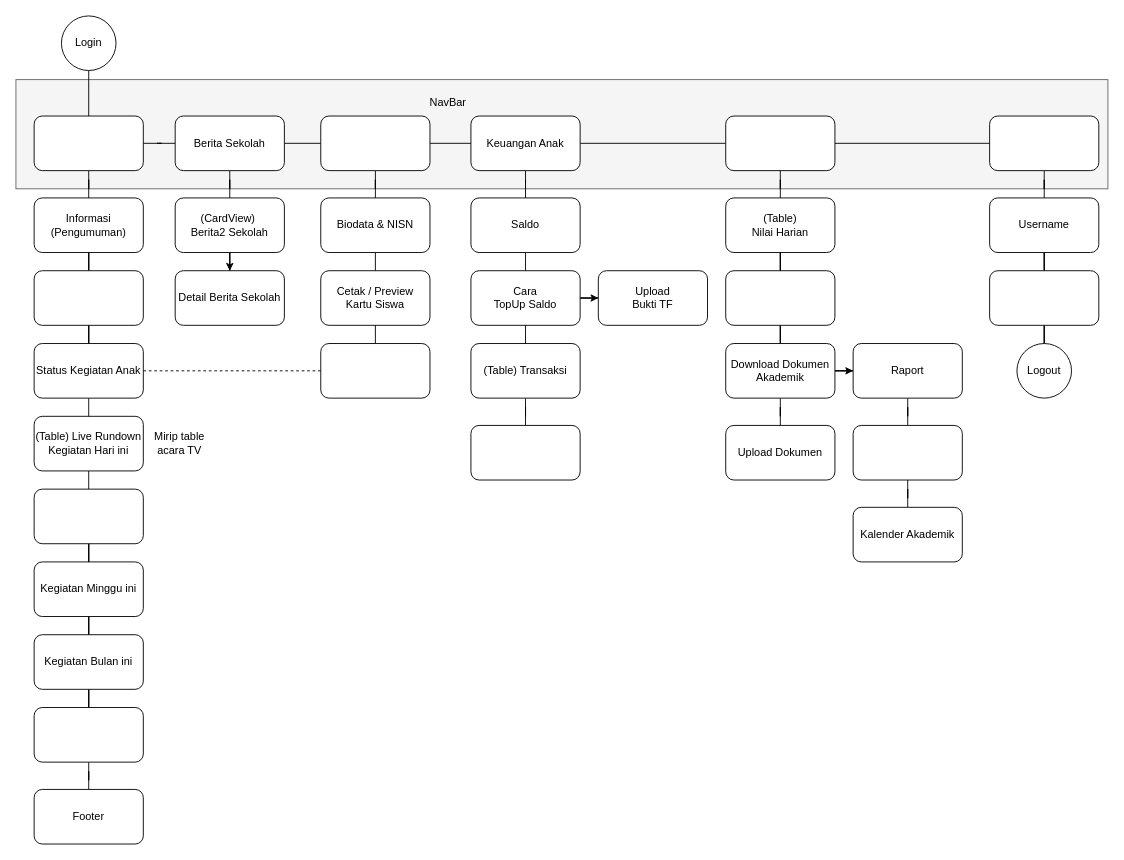
The diagram is 1124 pixels wide and 860 high, and some of its shapes have lost their labels. The shapes that lost their labels are listed below. From the top down, each one's centre as x and y in pixels, then its label:
At (x=88, y=143): "Dashboard".
At (x=375, y=143): "Profile Anak".
At (x=780, y=143): "Akademik".
At (x=1044, y=143): "Akun User".
At (x=88, y=297): "Profile Singkat Anak (Load More)".
At (x=780, y=297): "(Table) Nilai Kegiatan".
At (x=1044, y=297): "Bantuan Admin (Untuk ganti password)".
At (x=375, y=370): "Status Kegiatan (Aktif/Izin/Sakit)".
At (x=525, y=452): "(Table) Tagihan".
At (x=907, y=452): "Sertifikat".
At (x=88, y=516): "Kegiatan Hari ini".
At (x=88, y=734): "Berita Sekolah (Load More)".
